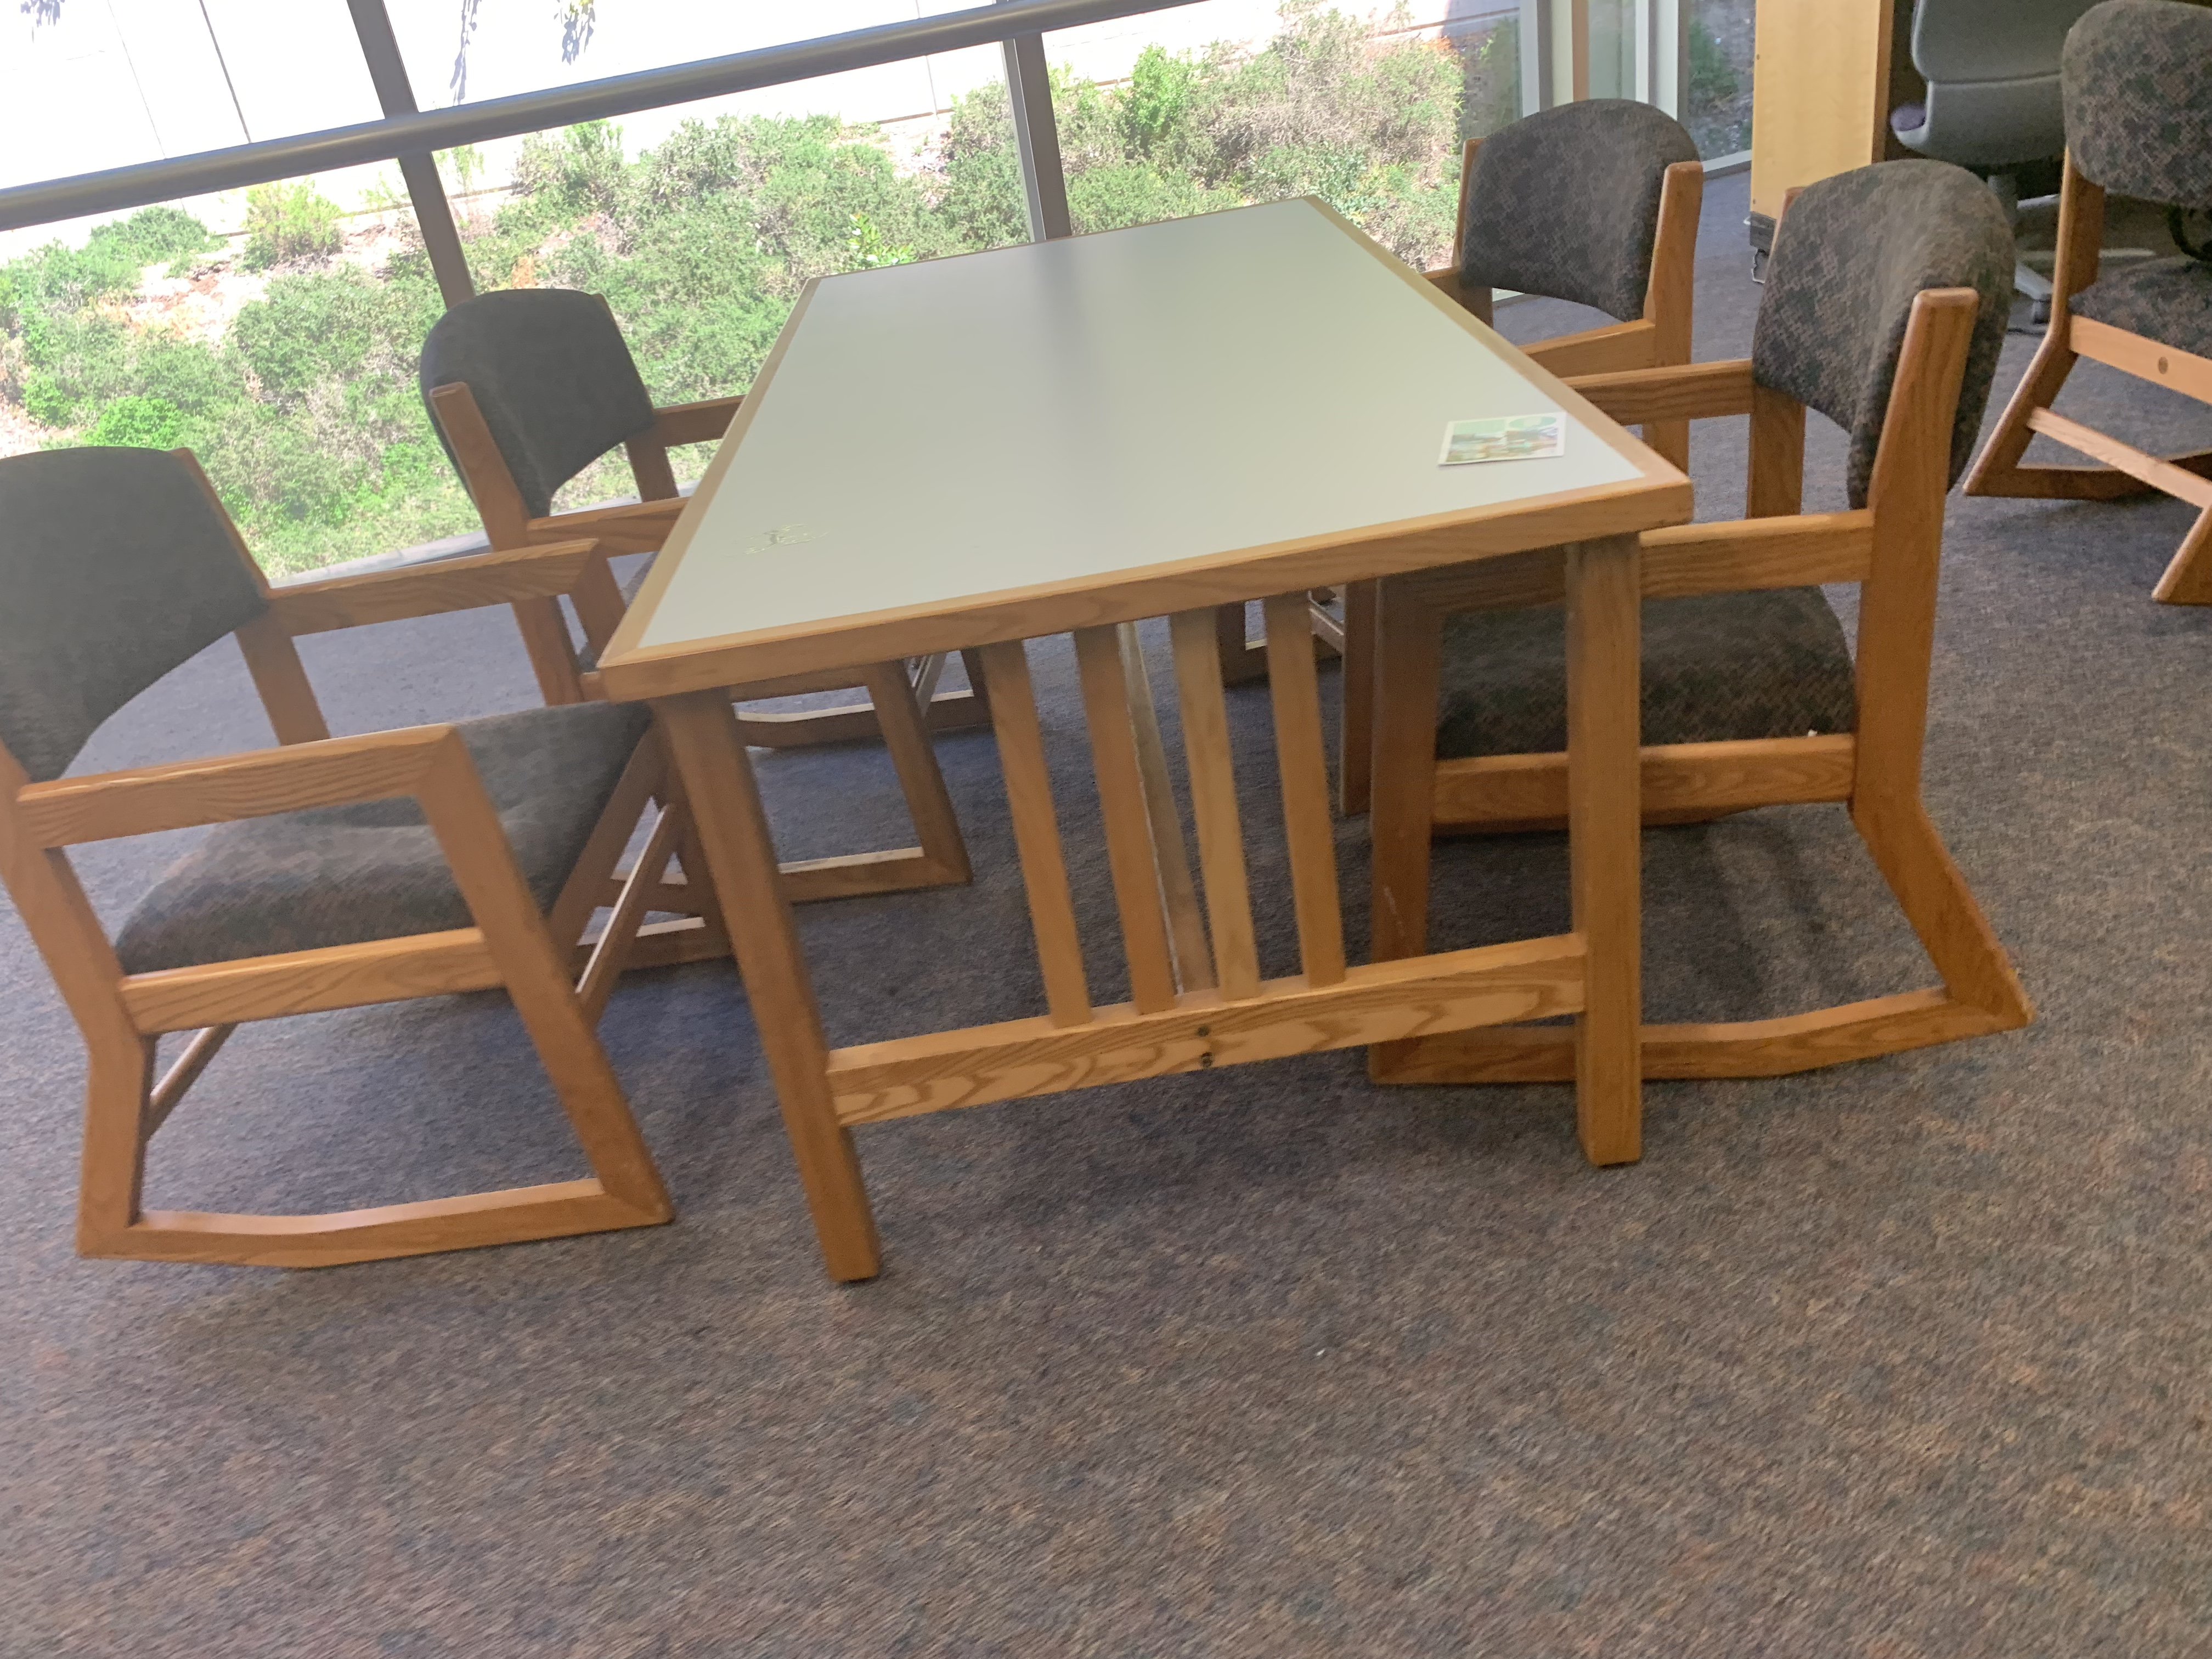Obstacle: (559, 207, 1702, 1270), (1348, 141, 2071, 1140), (2, 411, 716, 1288)
